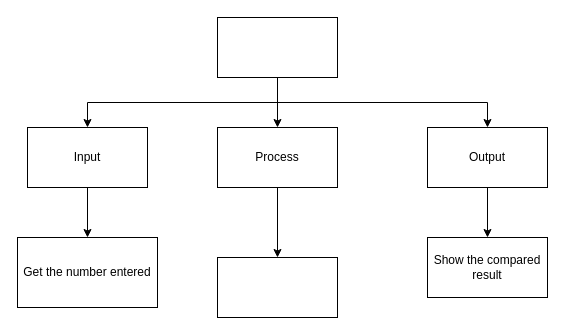
Some shapes in this 565 by 335 pixel diagram are drawn without their labels. The centre of each missing label's shape, as x and y in pixels:
"Check if the number entered is >, < or == 0" belongs at pixel 277 287.
"Positive, negative or 0" belongs at pixel 277 47.
